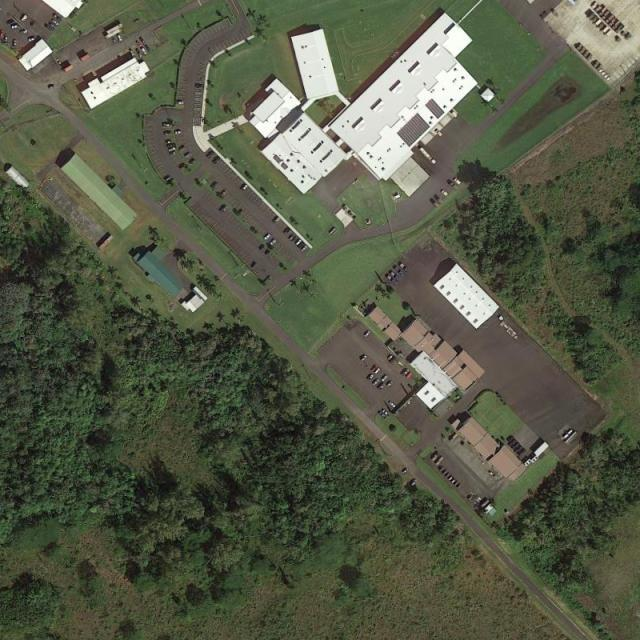vehicle: (54, 14, 62, 22), (270, 238, 278, 246), (210, 182, 218, 190), (378, 384, 386, 392), (378, 411, 386, 419), (410, 479, 418, 487), (449, 181, 457, 189), (454, 178, 462, 186), (221, 206, 228, 215), (50, 22, 57, 30), (189, 159, 197, 166), (46, 26, 54, 33), (51, 18, 58, 26), (372, 378, 379, 386), (402, 369, 409, 377), (386, 380, 394, 387), (402, 467, 409, 475), (442, 189, 450, 196), (264, 234, 271, 241), (221, 190, 228, 197), (361, 355, 368, 362), (382, 407, 389, 414), (364, 330, 370, 338), (381, 374, 387, 382), (137, 49, 142, 58), (144, 45, 150, 52), (302, 246, 308, 253), (274, 217, 280, 224), (242, 185, 249, 191), (370, 365, 377, 371), (375, 367, 381, 374), (390, 401, 396, 408), (7, 21, 15, 26), (117, 34, 122, 42), (140, 38, 146, 44), (296, 240, 302, 246), (21, 30, 28, 35), (176, 101, 183, 106), (141, 47, 146, 54), (179, 148, 186, 153), (184, 154, 191, 159), (298, 242, 303, 249), (11, 25, 19, 29), (137, 41, 142, 47), (129, 49, 134, 55), (170, 151, 176, 156), (388, 354, 393, 360), (368, 374, 374, 379), (163, 123, 170, 127), (175, 130, 182, 134), (28, 38, 34, 42), (6, 34, 9, 42), (169, 147, 174, 151), (1, 31, 3, 40), (165, 132, 171, 135), (14, 41, 16, 46)
